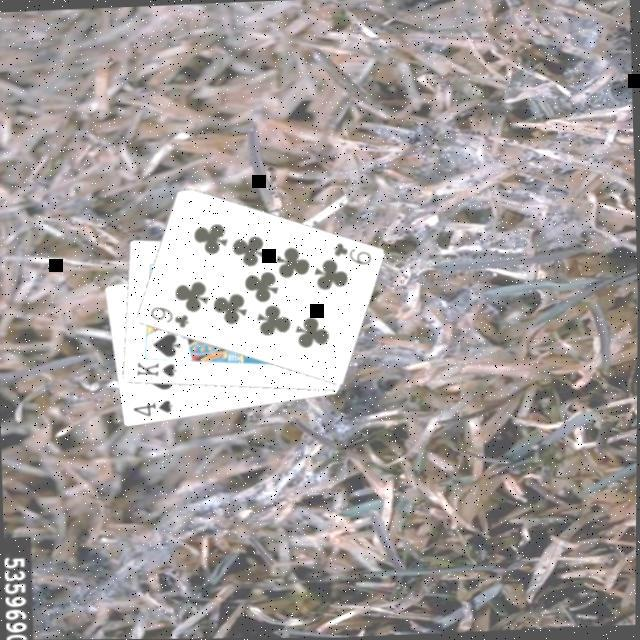4S: (131, 393, 178, 418)
9C: (149, 299, 195, 331), (330, 235, 376, 267)
KS: (134, 354, 182, 379)
